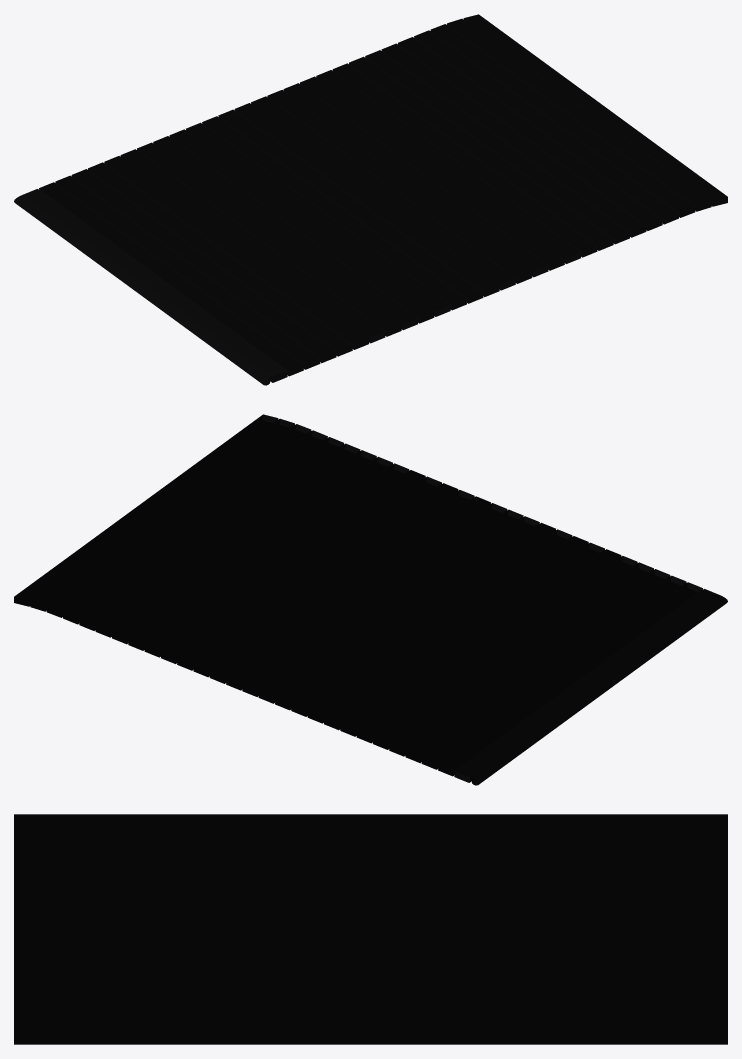
The model's file is Tonneau.glb.
The picture shows the model from 3 angles, top to bottom: view 1: azimuth 30°, elevation 25°; view 2: azimuth 150°, elevation 25°; view 3: azimuth 270°, elevation 25°; orthographic projection. The views are drawn at different scales.
Parts seen in each view (by area): view 1: Tonneau28, Tonneau20, Tonneau10, Tonneau18, Tonneau14, Tonneau222, Tonneau12, Tonneau16, Tonneau6, Tonneau4, Tonneau25, Tonneau5 (+16 smaller); view 2: Tonneau28, Tonneau20, Tonneau10, Tonneau18, Tonneau14, Tonneau222, Tonneau12, Tonneau16, Tonneau6, Tonneau4, Tonneau25, Tonneau5 (+16 smaller); view 3: Tonneau2, Tonneau22, Tonneau28, Tonneau32, Tonneau5, Tonneau8, Tonneau16, Tonneau222, Tonneau25, Tonneau4, Tonneau6, Tonneau9 (+16 smaller).
Boxes of the visible parts, bbox=[...] form: Tonneau28: bbox=[14, 189, 288, 385]; Tonneau20: bbox=[153, 136, 418, 330]; Tonneau10: bbox=[316, 70, 581, 263]; Tonneau18: bbox=[186, 122, 451, 316]; Tonneau14: bbox=[251, 96, 516, 290]; Tonneau222: bbox=[120, 149, 386, 343]; Tonneau12: bbox=[283, 83, 549, 277]; Tonneau16: bbox=[218, 109, 484, 303]; Tonneau6: bbox=[381, 43, 647, 237]; Tonneau4: bbox=[414, 30, 679, 224]; Tonneau25: bbox=[71, 169, 337, 363]; Tonneau5: bbox=[398, 37, 663, 230]; Tonneau28: bbox=[453, 589, 727, 785]; Tonneau20: bbox=[323, 536, 588, 730]; Tonneau10: bbox=[160, 470, 425, 663]; Tonneau18: bbox=[290, 522, 555, 716]; Tonneau14: bbox=[225, 496, 490, 690]; Tonneau222: bbox=[355, 549, 621, 743]; Tonneau12: bbox=[192, 483, 458, 677]; Tonneau16: bbox=[257, 509, 523, 703]; Tonneau6: bbox=[94, 443, 360, 637]; Tonneau4: bbox=[62, 430, 327, 624]; Tonneau25: bbox=[404, 569, 670, 763]; Tonneau5: bbox=[78, 437, 343, 630]; Tonneau2: bbox=[14, 1025, 727, 1044]; Tonneau22: bbox=[14, 1015, 727, 1027]; Tonneau28: bbox=[14, 814, 727, 825]; Tonneau32: bbox=[14, 1007, 727, 1017]; Tonneau5: bbox=[14, 991, 727, 1001]; Tonneau8: bbox=[14, 968, 727, 978]; Tonneau16: bbox=[14, 907, 727, 917]; Tonneau222: bbox=[14, 861, 727, 871]; Tonneau25: bbox=[14, 838, 727, 848]; Tonneau4: bbox=[14, 999, 727, 1009]; Tonneau6: bbox=[14, 984, 727, 993]; Tonneau9: bbox=[14, 961, 727, 971].
Size of the model in its own units: 1.58 by 0.2472 by 1.46.
2 materials, 2 textured.
